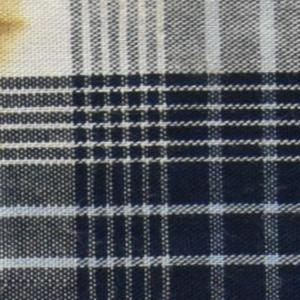Oil Stain: (1, 1, 34, 77)
